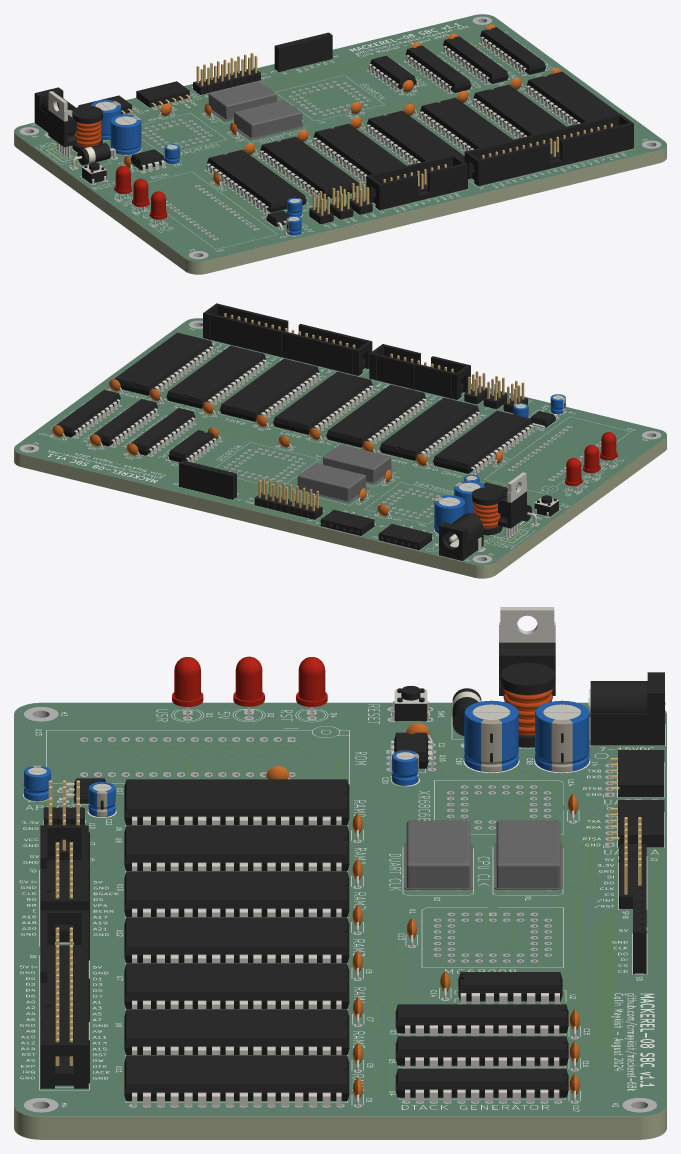
The model's file is board.glb.
The picture shows the model from 3 angles, top to bottom: view 1: azimuth 30°, elevation 25°; view 2: azimuth 150°, elevation 25°; view 3: azimuth 270°, elevation 25°; orthographic projection. The views are drawn at different scales.
Visible parts, largest first — view 1: board_soldermask, board_PCB, DIP-32_W15.24mm (×7), IDC_Header_2x20_P254mm_Vertical, DIP-24_W7.62mm (×3), IDC_Header_2x10_P254mm_Vertical, Oscillator_DIP-14 (×2), board_pad, board_silkscreen, CP_Radial_D100mm_P500mm (×2), PinHeader_2x09_P254mm_Vertical, PinHeader_2x03_P254mm_Vertical (×3) (+10 smaller); view 2: board_soldermask, board_PCB, DIP-32_W15.24mm (×7), IDC_Header_2x20_P254mm_Vertical, DIP-24_W7.62mm (×3), IDC_Header_2x10_P254mm_Vertical, Oscillator_DIP-14 (×2), board_pad, board_silkscreen, PinSocket_1x06_P2.54mm_Horizontal (×2), PinHeader_2x09_P254mm_Vertical, BarrelJack_Horizontal (+8 smaller); view 3: board_soldermask, board_PCB, DIP-32_W15.24mm (×7), DIP-24_W7.62mm (×3), board_silkscreen, Oscillator_DIP-14 (×2), IDC_Header_2x20_P254mm_Vertical, CP_Radial_D100mm_P500mm (×2), board_pad, BarrelJack_Horizontal, PinSocket_1x06_P2.54mm_Horizontal (×2), IDC_Header_2x10_P254mm_Vertical (+12 smaller).
Part boxes in pixels (bbox=[...]): board_soldermask: bbox=[14, 14, 666, 261]; board_PCB: bbox=[14, 15, 666, 274]; DIP-32_W15.24mm (×7): bbox=[206, 71, 619, 213]; IDC_Header_2x20_P254mm_Vertical: bbox=[464, 113, 633, 186]; DIP-24_W7.62mm (×3): bbox=[405, 27, 545, 93]; IDC_Header_2x10_P254mm_Vertical: bbox=[366, 154, 467, 210]; Oscillator_DIP-14 (×2): bbox=[208, 81, 303, 139]; board_pad: bbox=[19, 16, 661, 259]; board_silkscreen: bbox=[31, 23, 647, 251]; CP_Radial_D100mm_P500mm (×2): bbox=[91, 99, 141, 154]; PinHeader_2x09_P254mm_Vertical: bbox=[193, 53, 260, 94]; PinHeader_2x03_P254mm_Vertical (×3): bbox=[309, 181, 372, 224]; board_soldermask: bbox=[14, 318, 666, 565]; board_PCB: bbox=[14, 319, 666, 578]; DIP-32_W15.24mm (×7): bbox=[114, 332, 532, 474]; IDC_Header_2x20_P254mm_Vertical: bbox=[203, 303, 372, 375]; DIP-24_W7.62mm (×3): bbox=[56, 389, 195, 456]; IDC_Header_2x10_P254mm_Vertical: bbox=[369, 344, 470, 399]; Oscillator_DIP-14 (×2): bbox=[297, 444, 394, 502]; board_pad: bbox=[19, 320, 661, 563]; board_silkscreen: bbox=[33, 328, 647, 561]; PinSocket_1x06_P2.54mm_Horizontal (×2): bbox=[320, 509, 432, 550]; PinHeader_2x09_P254mm_Vertical: bbox=[254, 477, 322, 519]; BarrelJack_Horizontal: bbox=[439, 513, 483, 561]; board_soldermask: bbox=[14, 702, 666, 1116]; board_PCB: bbox=[14, 703, 666, 1139]; DIP-32_W15.24mm (×7): bbox=[124, 779, 349, 1106]; DIP-24_W7.62mm (×3): bbox=[395, 1004, 568, 1102]; board_silkscreen: bbox=[19, 704, 665, 1111]; Oscillator_DIP-14 (×2): bbox=[404, 820, 562, 889]; IDC_Header_2x20_P254mm_Vertical: bbox=[40, 910, 89, 1088]; CP_Radial_D100mm_P500mm (×2): bbox=[464, 700, 589, 772]; board_pad: bbox=[24, 707, 656, 1112]; BarrelJack_Horizontal: bbox=[588, 672, 665, 745]; PinSocket_1x06_P2.54mm_Horizontal (×2): bbox=[609, 750, 664, 847]; IDC_Header_2x10_P254mm_Vertical: bbox=[40, 825, 89, 941].
Bounding box in the file's own units: 0.18 × 0.0262 × 0.12.
